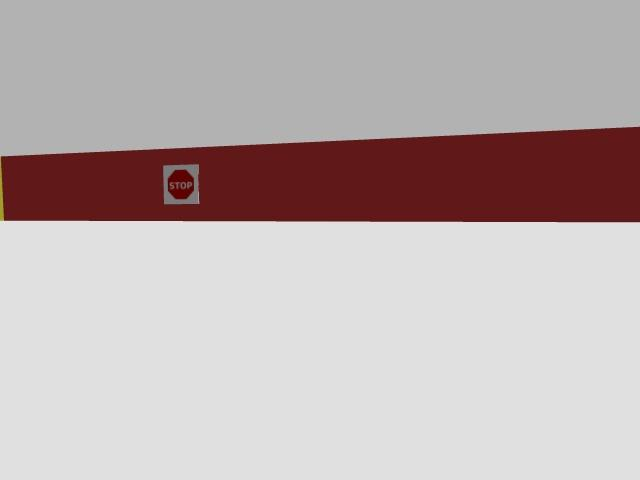stop: (164, 165, 198, 203)
